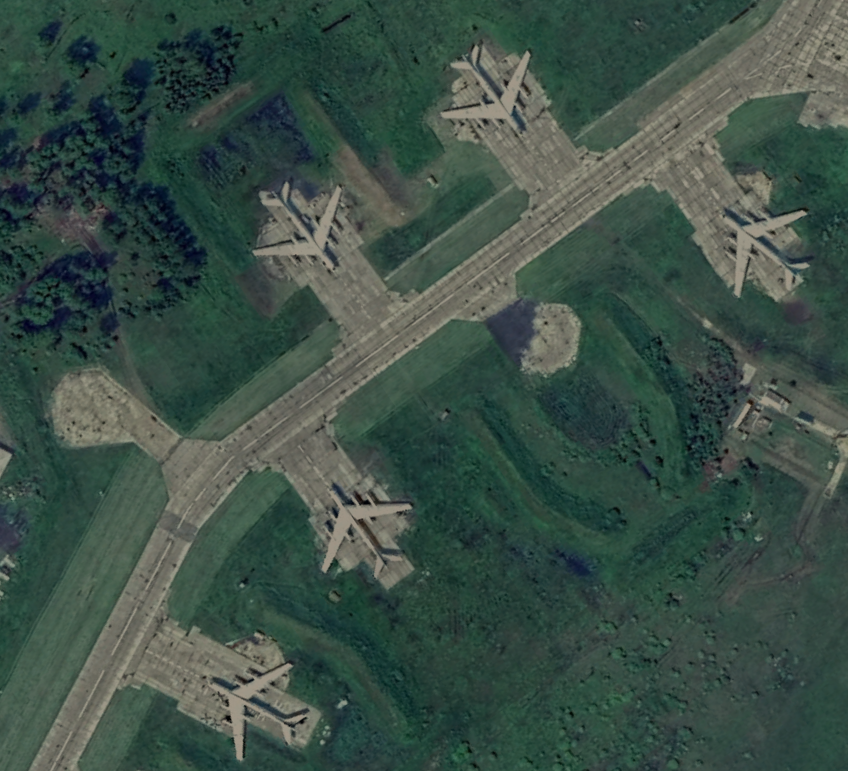A17: (197, 647, 309, 764), (306, 471, 418, 588), (246, 166, 358, 283), (429, 30, 541, 147), (709, 189, 820, 306)
